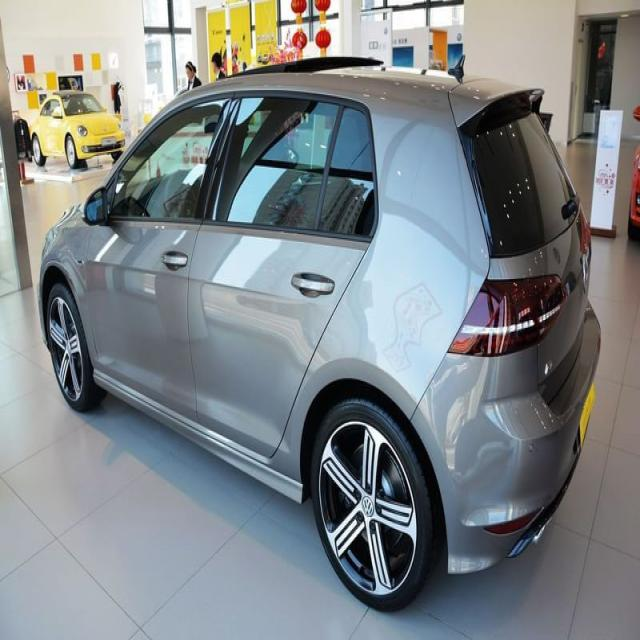back_glass: (458, 99, 580, 261)
back_left_side_light: (447, 272, 566, 358)
door: (192, 94, 384, 453)
front_left_side_door: (82, 82, 237, 431)
front_left_side_light: (42, 223, 59, 260)
front_left_side_mirror: (82, 185, 110, 228)
rear_bumper: (417, 299, 602, 576)
wheel: (310, 392, 433, 610), (46, 282, 107, 412)
